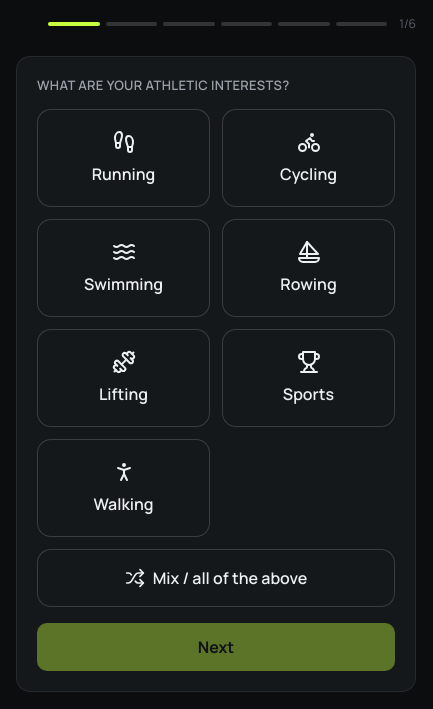
Test: the step indicator reflects the six-step flow
Check: the text "1/6" is shown, box x1=399 y1=16 x2=416 y2=32
Click the radio button labelled "Running".
click(124, 158)  # box x1=37 y1=110 x2=210 y2=208
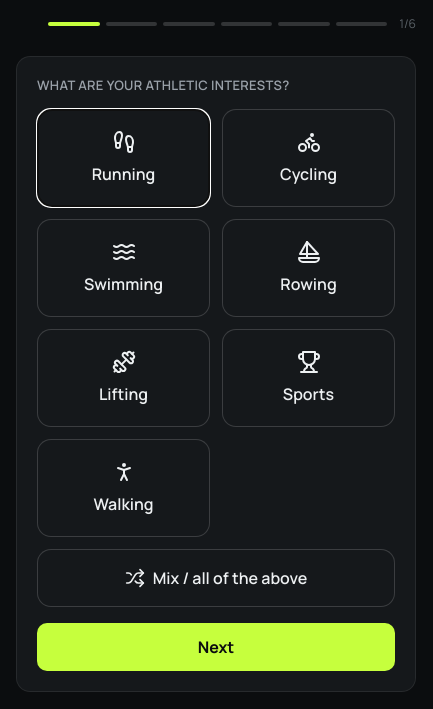
Click the button "Next".
click(216, 648)  # box x1=37 y1=624 x2=395 y2=672
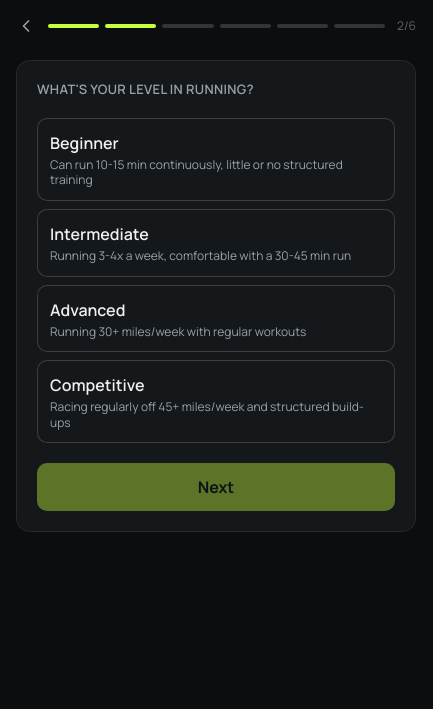
Check: the text "2/6" is shown, box x1=397 y1=18 x2=416 y2=34
